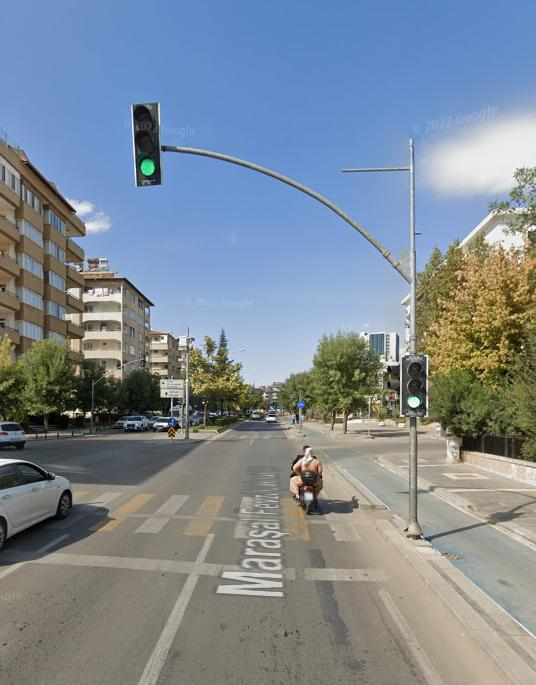greenlight: (128, 96, 166, 194), (400, 352, 429, 421)
